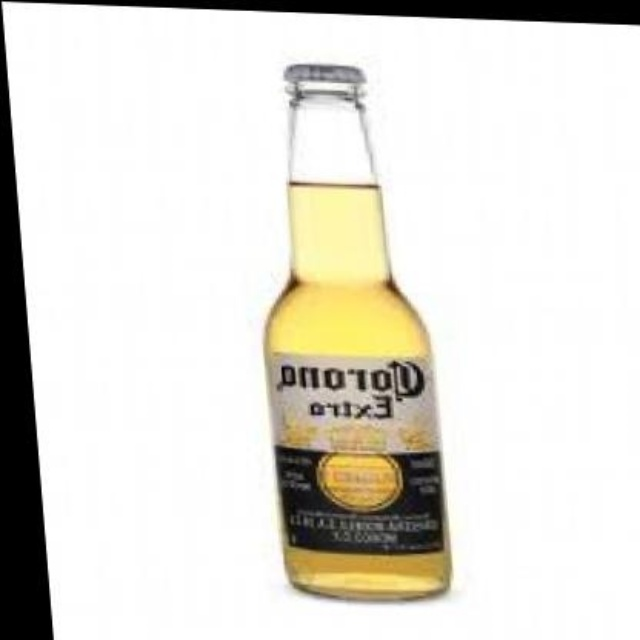trash: (265, 65, 449, 598)
